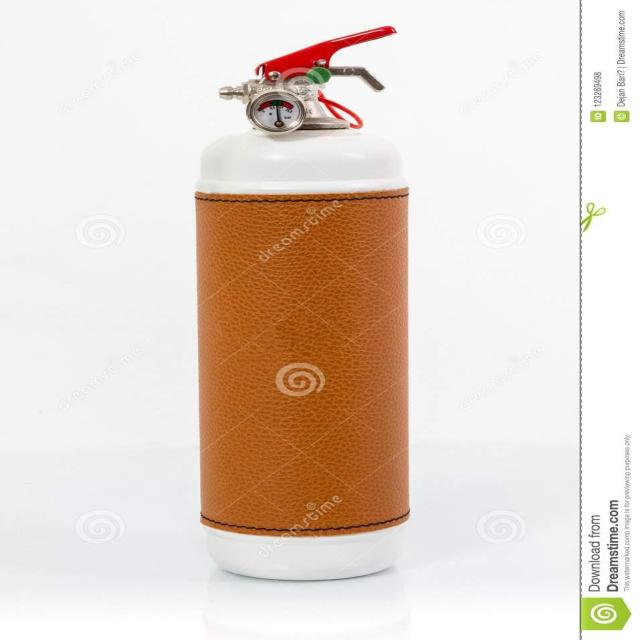fire_extinguisher: (188, 22, 422, 590)
